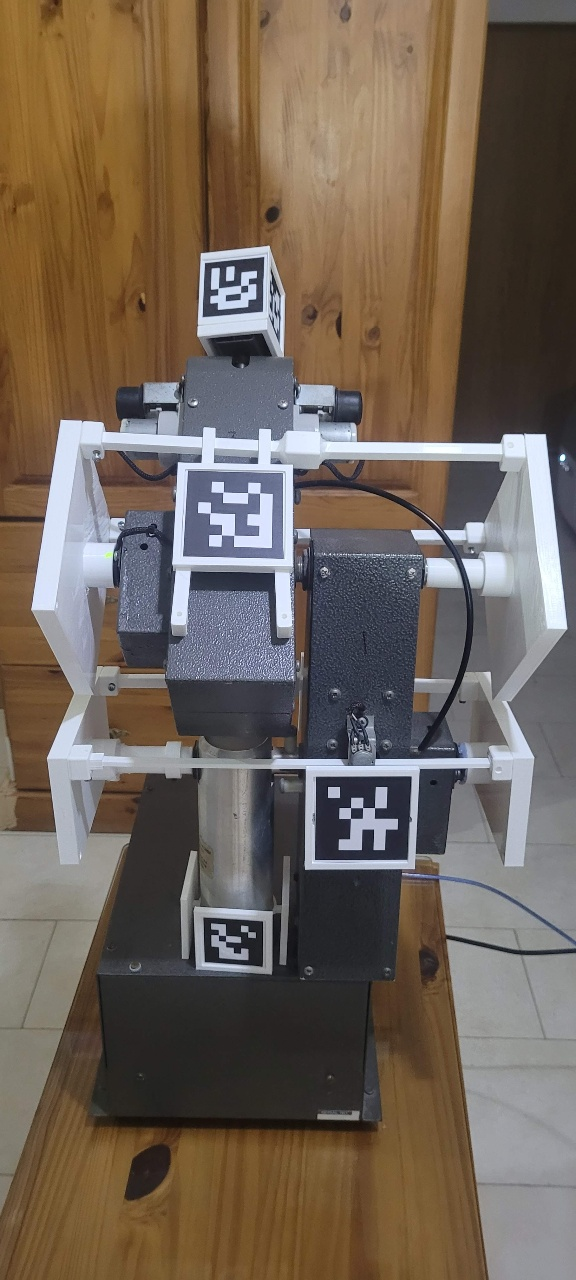Robot: (115, 348, 576, 973)
